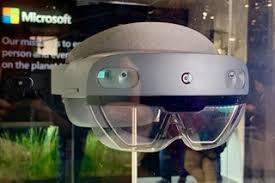hololens: (58, 22, 250, 151)
